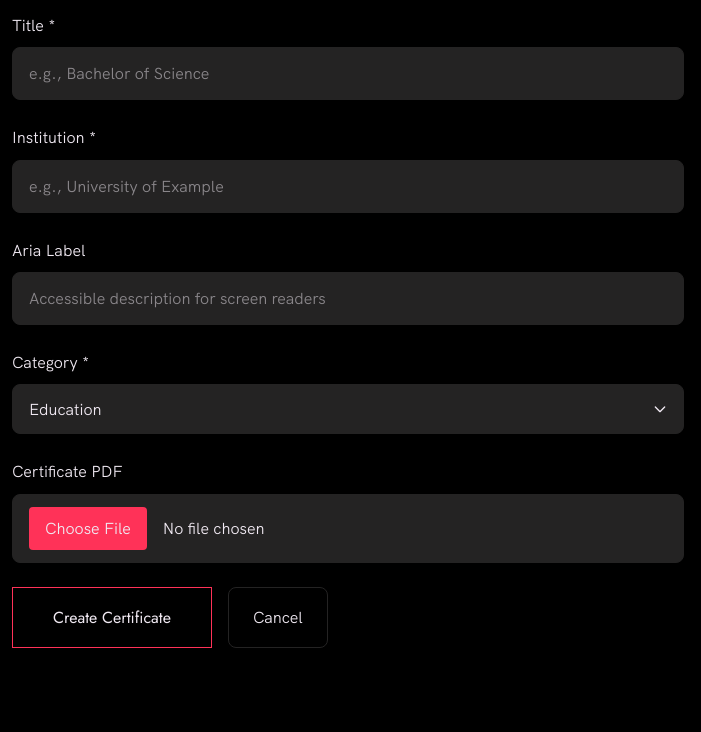
CertificateForm Component › Error Handling › displays error message when insert fails
Step 1. Type "B.S." into the field labelled "Title *" → (348, 74), box left=12, top=47, right=684, bottom=100
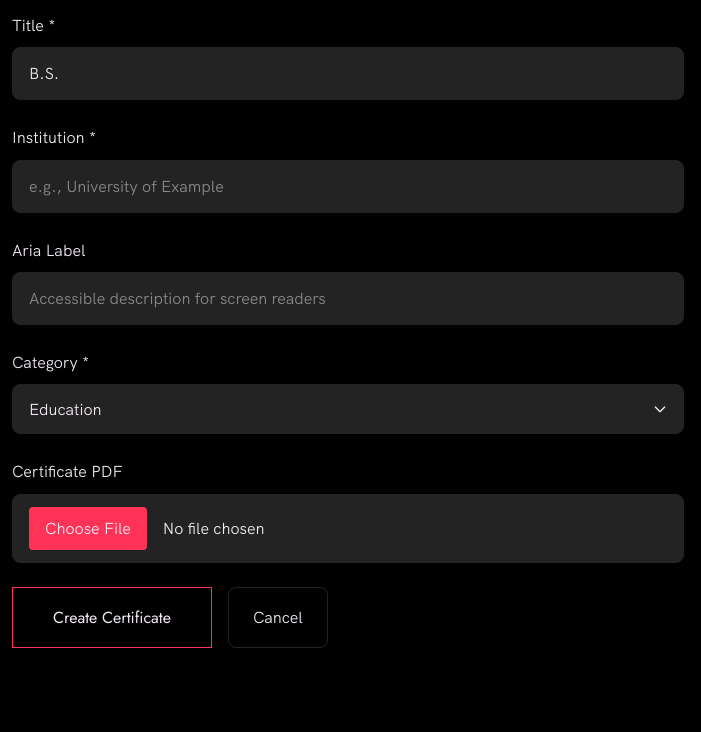
Step 2. Type "University" into the field labelled "Institution *" → (348, 186), box left=12, top=160, right=684, bottom=213
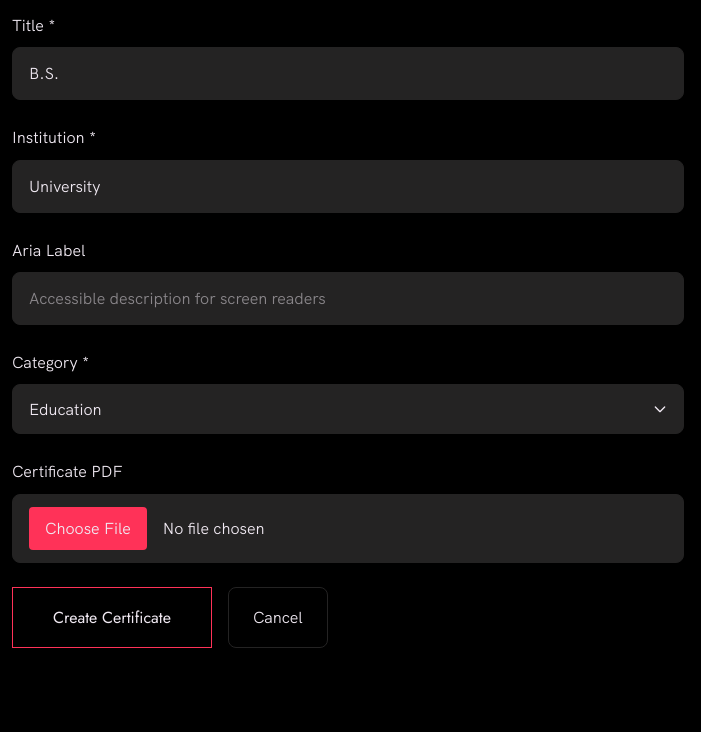
Step 3. Click the button "Create Certificate" → (112, 617), box left=12, top=587, right=212, bottom=648
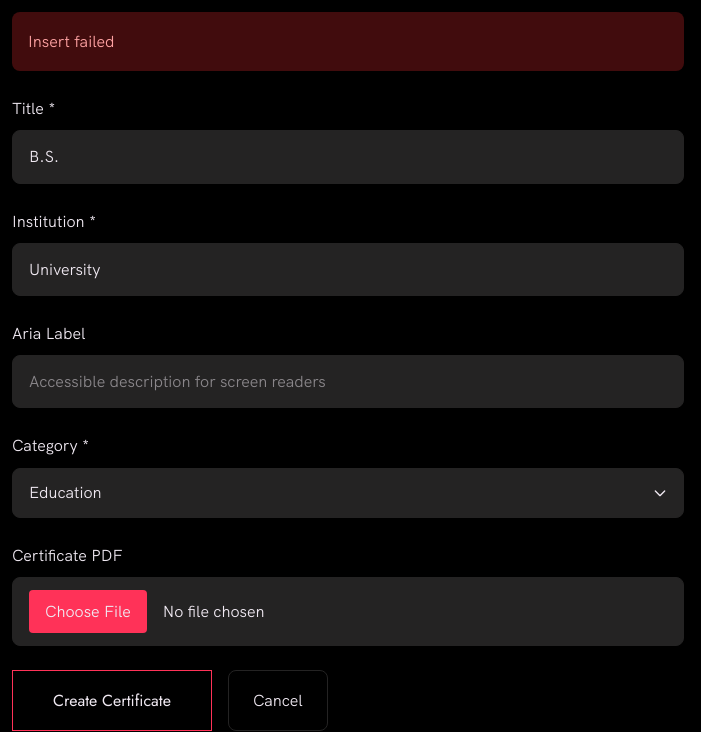
Now the text "Insert failed" is shown, box left=12, top=12, right=684, bottom=71
